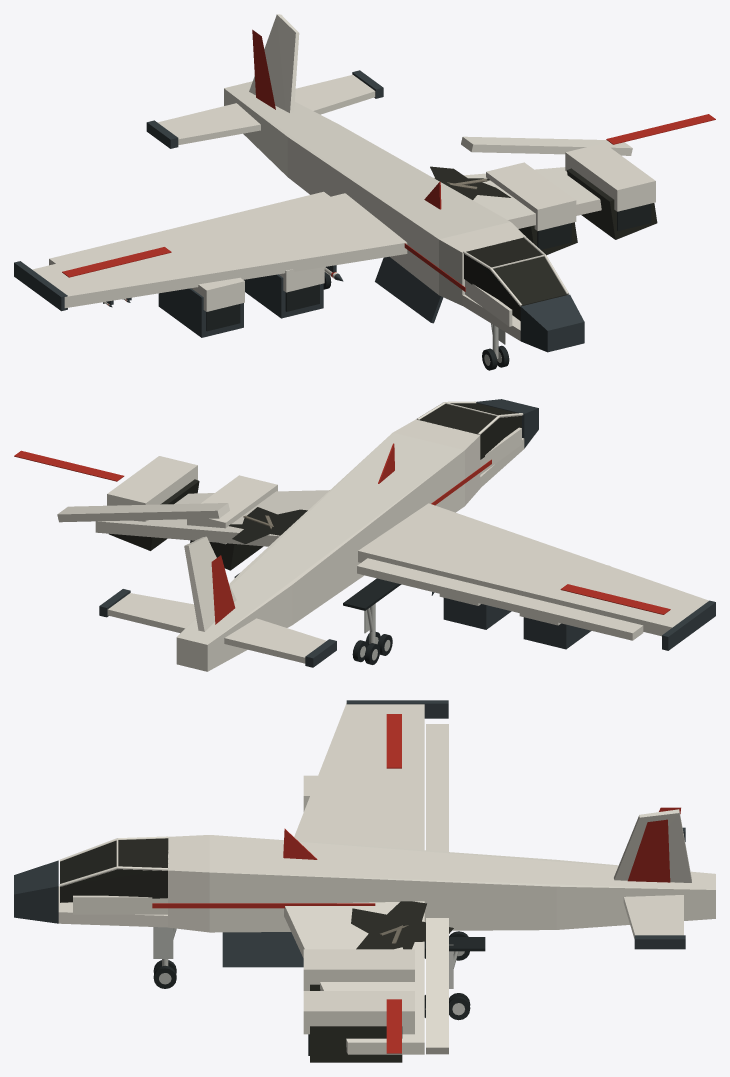
3 renders of one model, top to bottom at view 1: azimuth 30°, elevation 25°; view 2: azimuth 150°, elevation 25°; view 3: azimuth 270°, elevation 25°, orthographic. The views are drawn at different scales.
Parts seen in each view (by area): view 1: bomber-damaged-fleet-armor, bomber-damaged-fleet-machine, bomber-damaged-fleet-damage-charred, bomber-damaged-fleet-red, bomber-damaged-fleet-rubber, flap-right-painted, flap-left-painted; view 2: bomber-damaged-fleet-armor, bomber-damaged-fleet-damage-charred, bomber-damaged-fleet-machine, flap-left-painted, bomber-damaged-fleet-red, flap-right-painted, bomber-damaged-fleet-rubber; view 3: bomber-damaged-fleet-armor, bomber-damaged-fleet-damage-charred, bomber-damaged-fleet-machine, bomber-damaged-fleet-red, flap-right-painted, flap-left-painted, landing-gear-nose-painted, bomber-damaged-fleet-rubber.
Boxes of the visible parts, x1=… form: bomber-damaged-fleet-armor: x1=32, y1=14, x2=655, y2=340; bomber-damaged-fleet-machine: x1=14, y1=70, x2=584, y2=352; bomber-damaged-fleet-damage-charred: x1=430, y1=166, x2=657, y2=320; bomber-damaged-fleet-red: x1=62, y1=29, x2=715, y2=291; bomber-damaged-fleet-rubber: x1=206, y1=203, x2=651, y2=331; flap-right-painted: x1=461, y1=136, x2=632, y2=155; flap-left-painted: x1=49, y1=191, x2=330, y2=265; bomber-damaged-fleet-armor: x1=95, y1=401, x2=708, y2=671; bomber-damaged-fleet-damage-charred: x1=109, y1=403, x2=521, y2=570; bomber-damaged-fleet-machine: x1=99, y1=399, x2=715, y2=667; flap-left-painted: x1=357, y1=558, x2=643, y2=640; bomber-damaged-fleet-red: x1=14, y1=443, x2=670, y2=624; flap-right-painted: x1=57, y1=503, x2=229, y2=522; bomber-damaged-fleet-rubber: x1=234, y1=573, x2=400, y2=610; bomber-damaged-fleet-armor: x1=58, y1=703, x2=715, y2=1054; bomber-damaged-fleet-damage-charred: x1=60, y1=838, x2=453, y2=1062; bomber-damaged-fleet-machine: x1=14, y1=700, x2=685, y2=967; bomber-damaged-fleet-red: x1=152, y1=714, x2=680, y2=1053; flap-right-painted: x1=426, y1=918, x2=448, y2=1054; flap-left-painted: x1=426, y1=724, x2=448, y2=851; landing-gear-nose-painted: x1=153, y1=927, x2=176, y2=966; bomber-damaged-fleet-rubber: x1=308, y1=937, x2=485, y2=1055.
Bounding box in the file's own units: 188 × 46.33 × 158.
